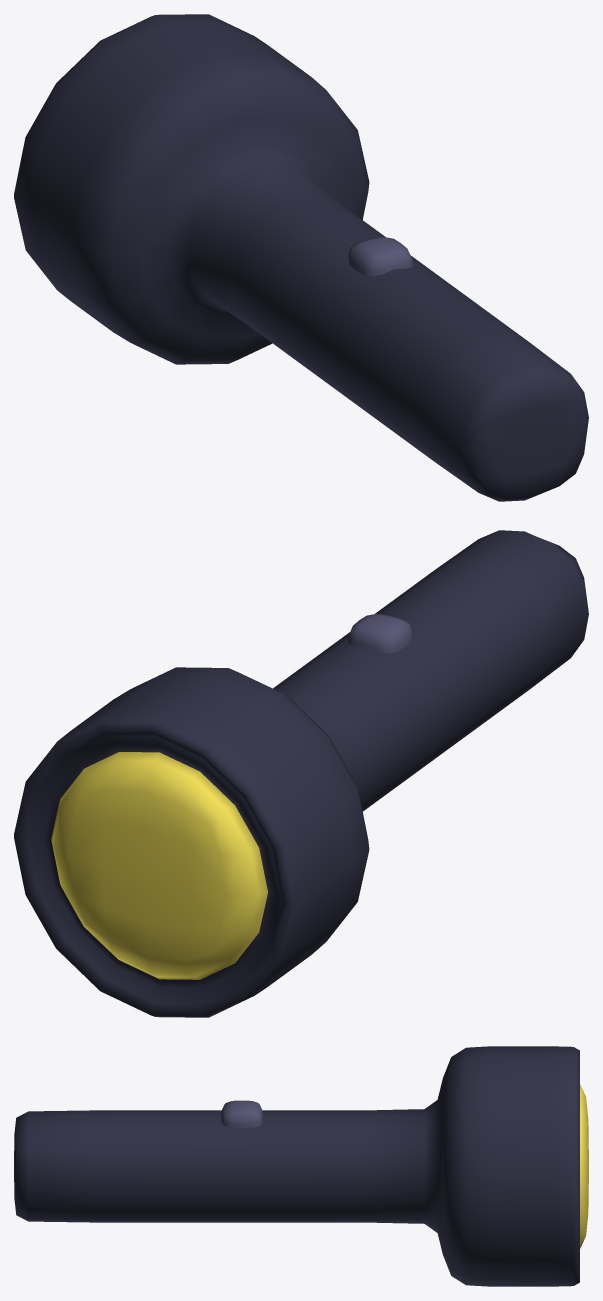
Rendered from flashlight.fbx.
3 renders of one model, top to bottom at view 1: azimuth 30°, elevation 25°; view 2: azimuth 150°, elevation 25°; view 3: azimuth 270°, elevation 25°, orthographic. The views are drawn at different scales.
Parts seen in each view (by area): view 1: flashlight; view 2: flashlight; view 3: flashlight.
Part boxes in pixels (bbox=[...]): flashlight: bbox=[14, 14, 588, 501]; flashlight: bbox=[14, 530, 588, 1017]; flashlight: bbox=[14, 1046, 588, 1286].
Bounding box in the file's own units: 394 × 933 × 394.
